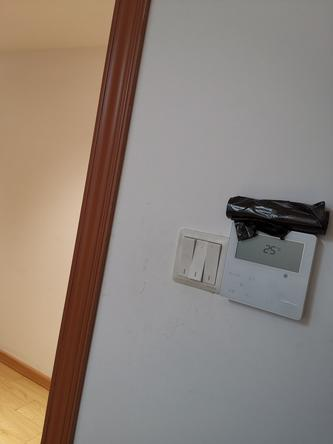switch: (202, 235, 223, 287), (175, 231, 195, 277), (189, 233, 205, 283)
